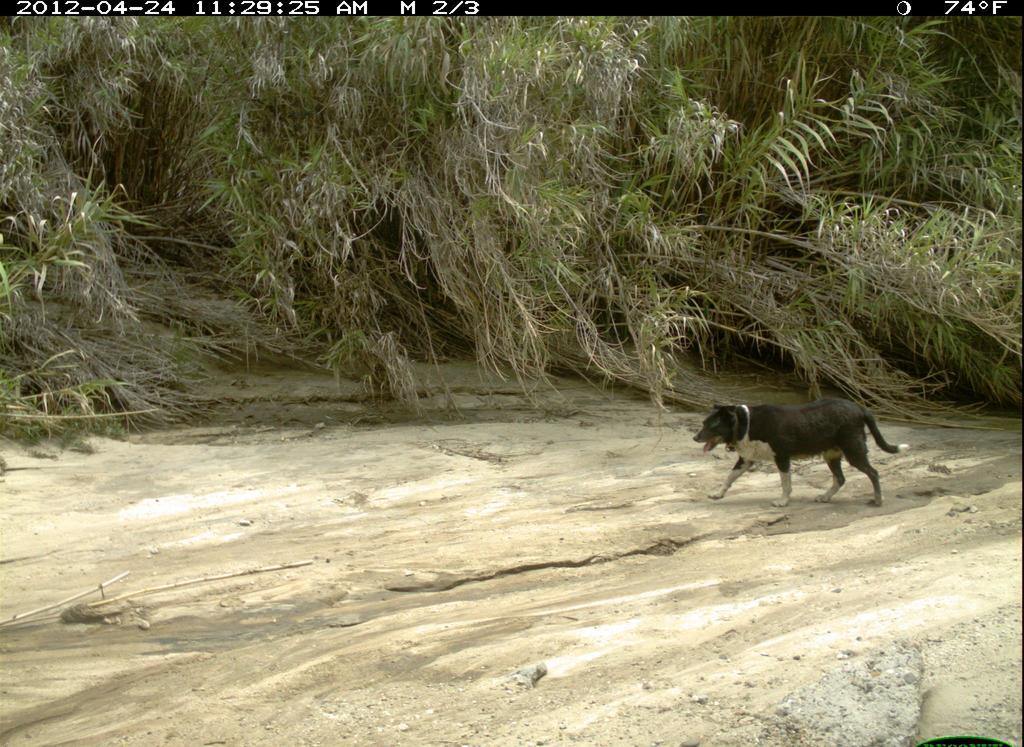dog: (694, 397, 914, 515)
